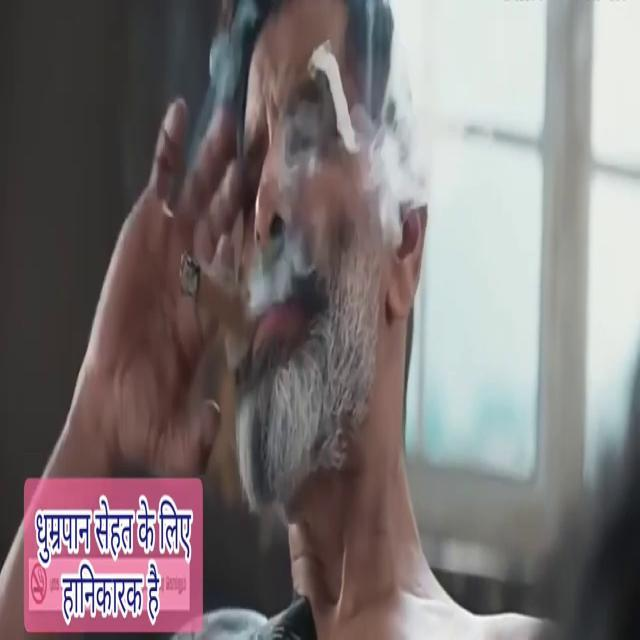smoking: (110, 72, 452, 414)
